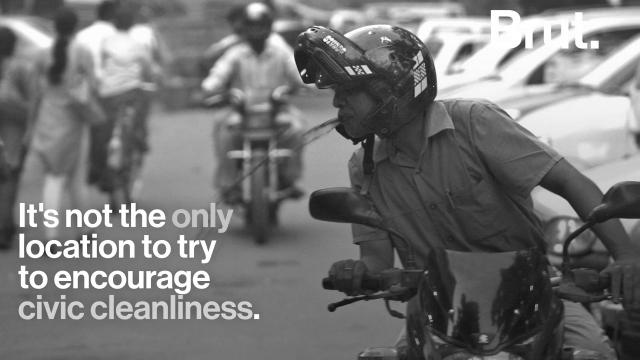spit: (199, 89, 387, 219)
